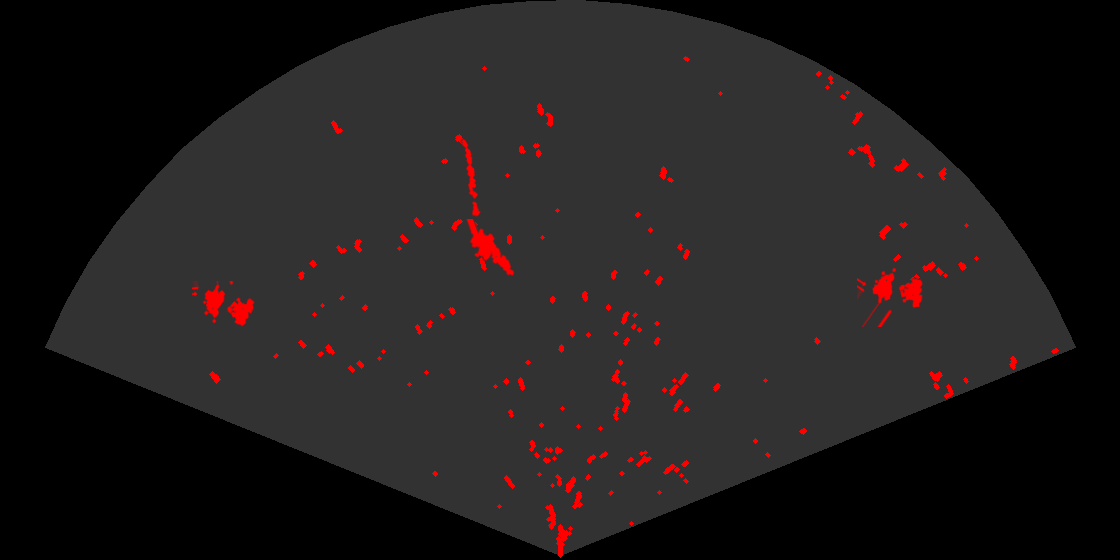cage: (857, 266, 924, 327), (192, 281, 256, 328)
chain: (460, 137, 482, 218)
frogman: (465, 219, 516, 278)
